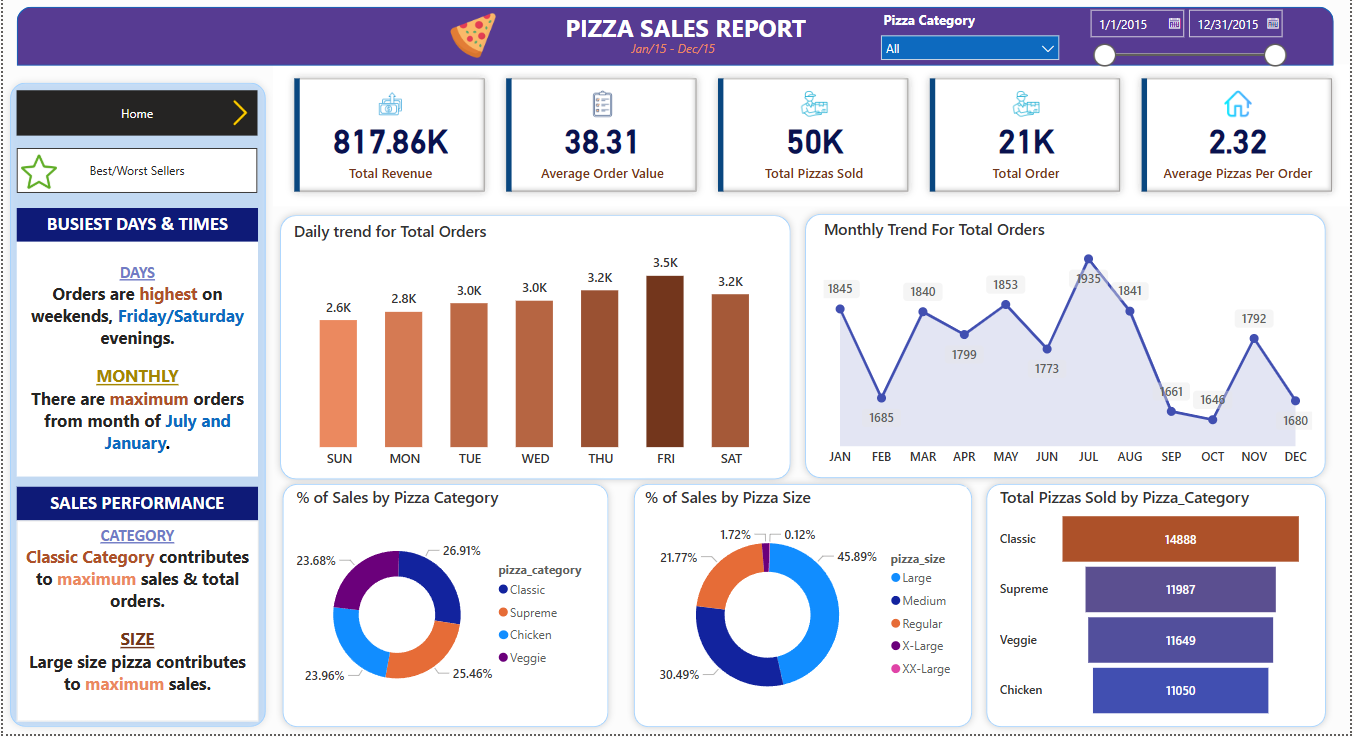

The dashboard page shown, as its layout file describes it:
{"tool":"powerbi","page":{"name":"Home","canvas":[1500,820],"ordinal":0},"visuals":[{"type":"shape","box":[0,86.3,300.8,733.9],"z":0},{"type":"cardVisual","fields":{"Data":["cleaned_pizza_sales.Total Revenue","cleaned_pizza_sales.Average Order Value","cleaned_pizza_sales.Total Pizzas Sold","cleaned_pizza_sales.Total Order","cleaned_pizza_sales.Average Pizzas Per Order"]},"box":[300.8,73.8,1199.1,158.8],"z":1000},{"type":"shape","box":[15.7,10,1467.1,65.7],"z":2000},{"type":"textbox","box":[611.4,9.7,298,48.7],"z":3000},{"type":"textbox","box":[694.9,41.8,121.2,32],"z":4000},{"type":"image","box":[492.9,7.1,61.4,70],"z":5000},{"type":"shape","box":[300.8,234,584.9,310.6],"z":6000},{"type":"columnChart","title":"Daily trend for Total Orders","fields":{"Category":["cleaned_pizza_sales.Order Day"],"Y":["cleaned_pizza_sales.Total Order"]},"box":[318.9,247.9,548.7,285.5],"z":7000},{"type":"shape","box":[885.7,232.6,596.1,310.6],"z":8000},{"type":"areaChart","title":"Monthly Trend For Total Orders","fields":{"Category":["cleaned_pizza_sales.Order Month"],"Y":["cleaned_pizza_sales.Total Order"]},"box":[909.4,245.1,554.3,285.5],"z":9000},{"type":"shape","box":[303.6,533.4,378.8,286.9],"z":10000},{"type":"shape","box":[694.9,533.4,392.7,286.9],"z":11000},{"type":"shape","box":[1087.7,533.4,394.1,286.9],"z":12000},{"type":"slicer","title":"% of Sales by Pizza Category","fields":{"Values":["cleaned_pizza_sales.pizza_category"]},"box":[967.9,9.7,218.6,64.1],"z":13000},{"type":"donutChart","title":"% of Sales by Pizza Size","fields":{"Y":["cleaned_pizza_sales.Total Revenue"],"Category":["cleaned_pizza_sales.pizza_size"]},"box":[710.3,544.5,363.5,263.2],"z":14000},{"type":"funnel","title":"Total Pizzas Sold by Pizza_Category","fields":{"Category":["cleaned_pizza_sales.pizza_category"],"Y":["cleaned_pizza_sales.Total Pizzas Sold"]},"box":[1105.8,544.5,348.2,263.2],"z":15000},{"type":"textbox","box":[15.3,234,268.8,37.6],"z":16000},{"type":"textbox","box":[15.3,544.5,268.8,37.6],"z":17000},{"type":"textbox","box":[15.3,271.6,268.8,261.8],"z":18000},{"type":"textbox","box":[15.3,582.1,268.8,224.2],"z":19000},{"type":"slicer","title":"% of Sales by Pizza Category","fields":{"Values":["cleaned_pizza_sales.order_date"]},"box":[1199.1,2.8,239.5,83.6],"z":20000},{"type":"donutChart","title":"% of Sales by Pizza Category","fields":{"Y":["cleaned_pizza_sales.Total Revenue"],"Category":["cleaned_pizza_sales.pizza_category"]},"box":[321.7,544.5,344,263.2],"z":21000},{"type":"pageNavigator","box":[15.3,103.1,268.8,50.1],"z":21001},{"type":"pageNavigator","box":[15.3,167.1,268.8,50.1],"z":21002},{"type":"image","box":[245.1,108.6,39,39],"z":21003},{"type":"image","box":[15.3,167.1,50.1,52.9],"z":21004}]}

Visuals, with their boxes in screenshot pixels (x1, y1, x2, y2), scaled from the page's 1500x820 canvas onto the 1354x737 screenshot:
shape: [0,78,272,736]
cardVisual - cleaned_pizza_sales.Total Revenue x cleaned_pizza_sales.Average Order Value: [272,66,1353,209]
shape: [14,9,1338,68]
textbox: [552,9,821,52]
textbox: [627,38,737,66]
image: [445,6,500,69]
shape: [272,210,799,489]
"Daily trend for Total Orders" columnChart: [288,223,783,479]
shape: [799,209,1338,488]
"Monthly Trend For Total Orders" areaChart: [821,220,1321,477]
shape: [274,479,616,736]
shape: [627,479,982,736]
shape: [982,479,1338,736]
"% of Sales by Pizza Category" slicer: [874,9,1071,66]
"% of Sales by Pizza Size" donutChart: [641,489,969,726]
"Total Pizzas Sold by Pizza_Category" funnel: [998,489,1312,726]
textbox: [14,210,256,244]
textbox: [14,489,256,523]
textbox: [14,244,256,479]
textbox: [14,523,256,725]
"% of Sales by Pizza Category" slicer: [1082,3,1299,78]
"% of Sales by Pizza Category" donutChart: [290,489,601,726]
pageNavigator: [14,93,256,138]
pageNavigator: [14,150,256,195]
image: [221,98,256,133]
image: [14,150,59,198]
